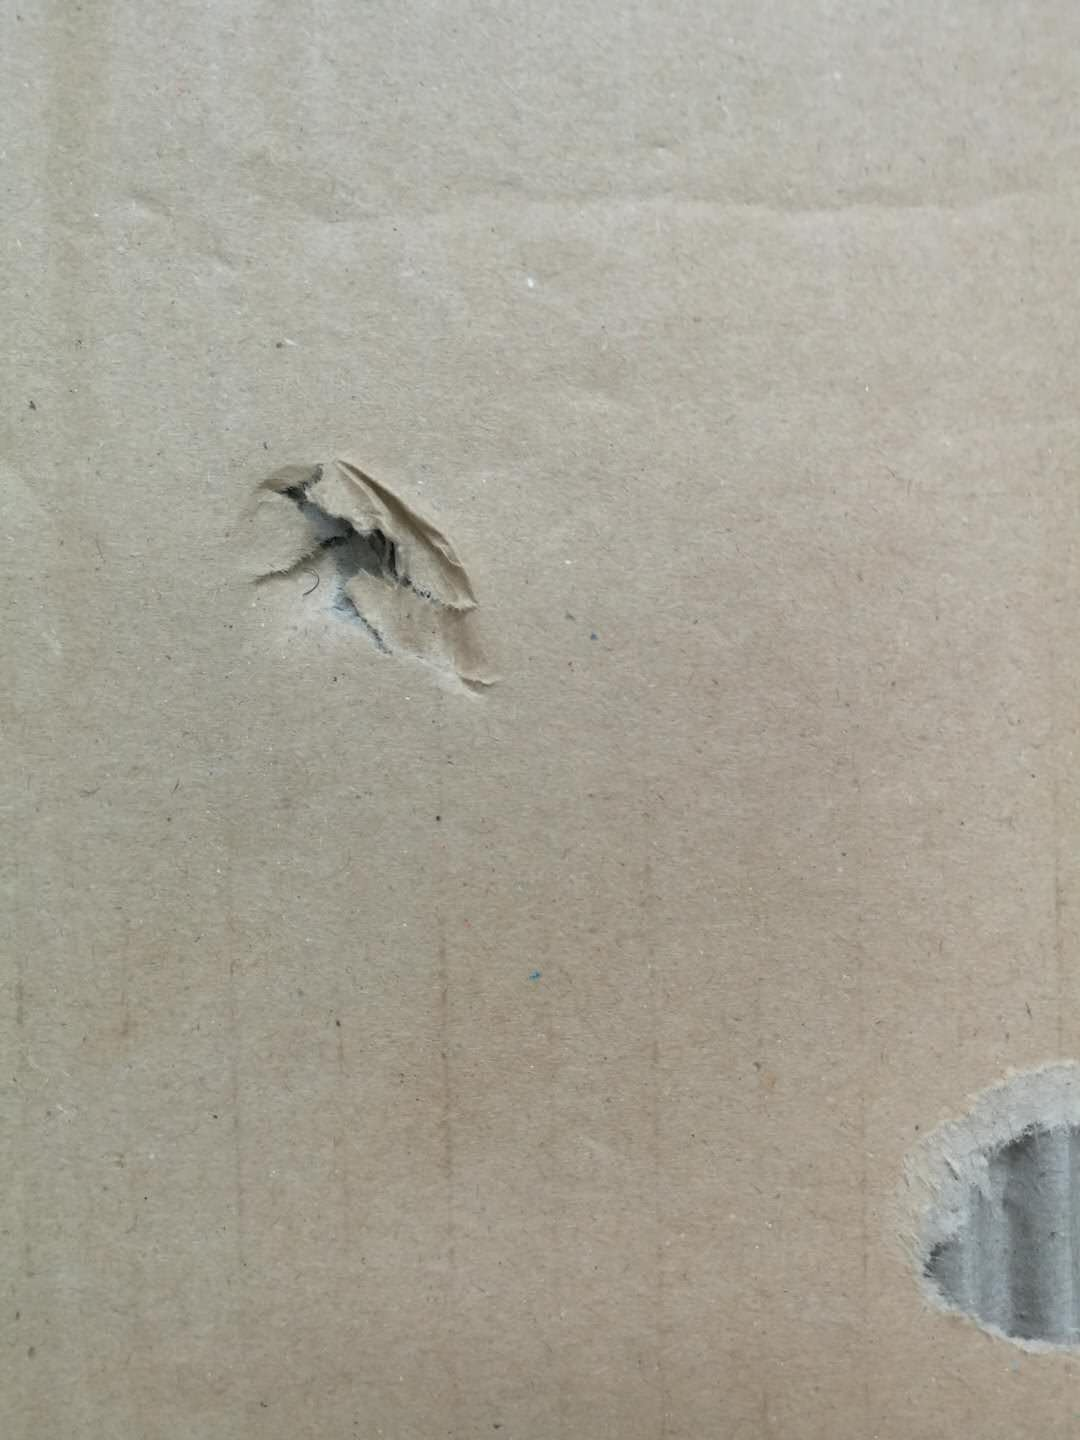defect: (279, 133, 1060, 264), (212, 422, 539, 725), (869, 1028, 1080, 1378)
